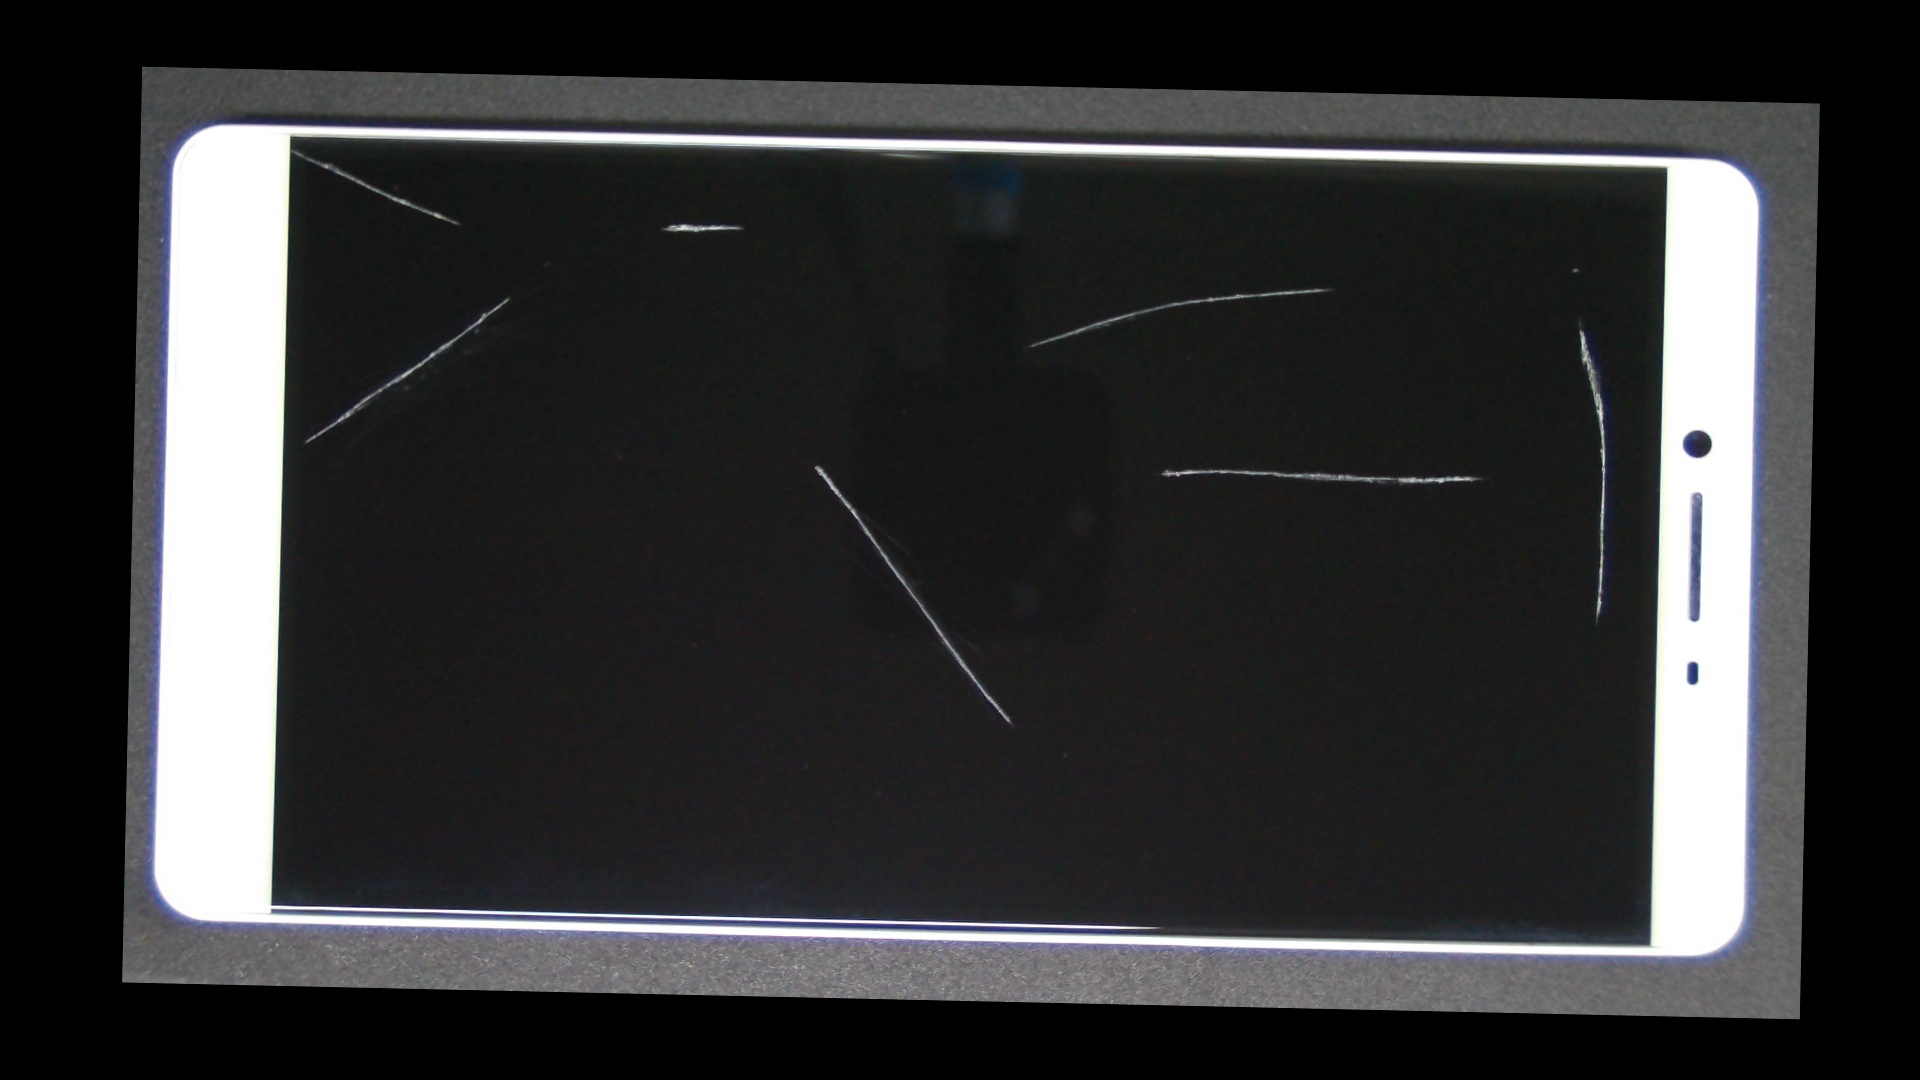oil: (678, 266, 1780, 669), (472, 265, 1166, 663), (857, 196, 1817, 448), (735, 177, 1817, 397), (320, 182, 694, 414), (406, 144, 947, 301), (215, 107, 367, 189)
